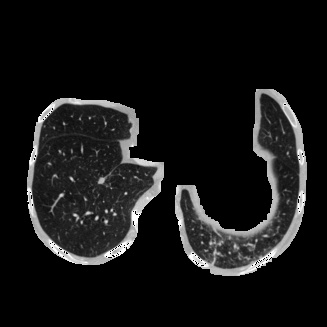PN: (97, 177, 105, 185)
